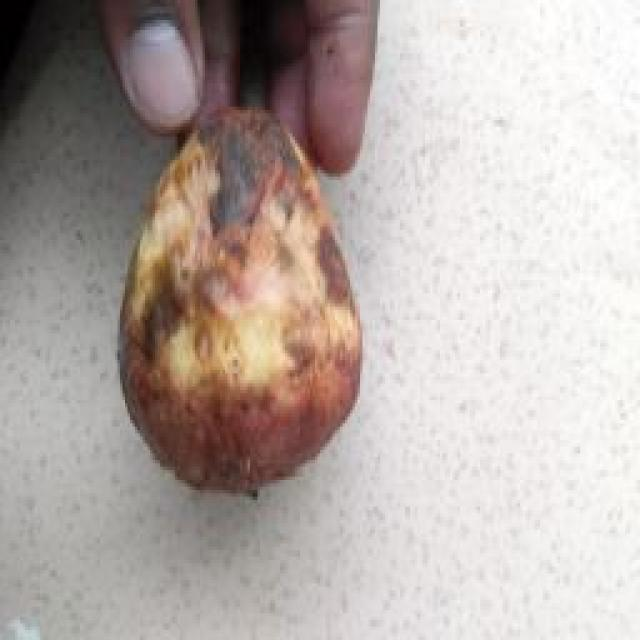Bad_Guava: (120, 108, 361, 491)
